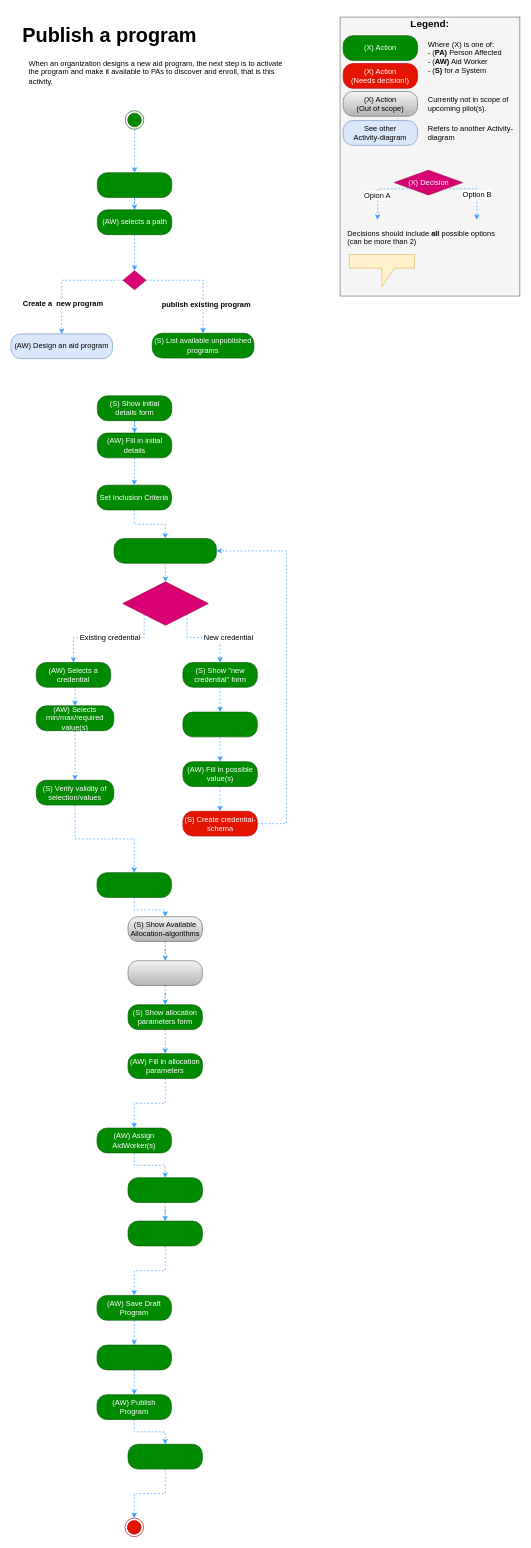
This 531x1548 diagram has some shape labels left out. Here are the shapes that lost their labels. From the top down, the centre of each, then its label:
(x=134, y=184): (AW) Logs in
(x=381, y=270): Explanation
(x=164, y=550): (S) Show list of available conditions(credentials)
(x=165, y=603): Use existing/new credential
(x=219, y=724): (AW) Fill in "New credential" form
(x=133, y=884): Set Allocation Criteria
(x=164, y=972): (AW) Select Allocation Algorithm
(x=164, y=1189): (S) Show available AidWorker(s)
(x=164, y=1233): (AW) Select AidWorker(s)
(x=133, y=1357): (S) Show overview of Program details
(x=164, y=1456): (S) Create Published Program
